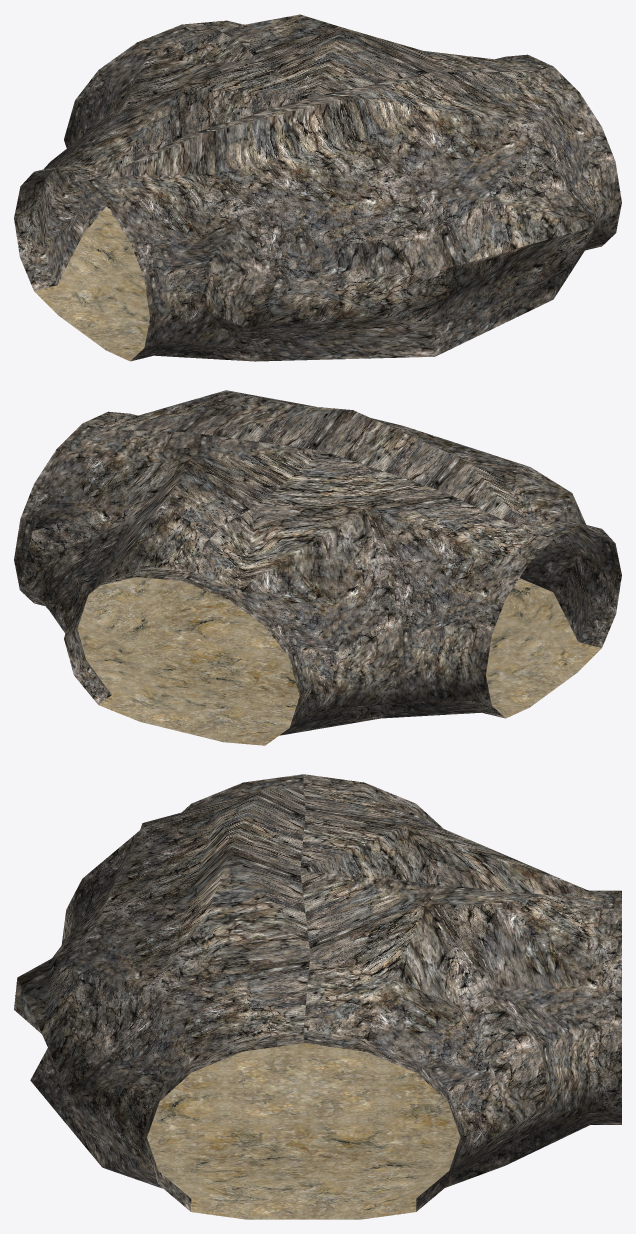
File: pir_m_are_cav_threeway100.fbx
The picture shows the model from 3 angles, top to bottom: view 1: azimuth 30°, elevation 25°; view 2: azimuth 150°, elevation 25°; view 3: azimuth 270°, elevation 25°; orthographic projection. The views are drawn at different scales.
Visible parts, largest first — view 1: threeway100_wall, threeway100_floor; view 2: threeway100_wall, threeway100_floor; view 3: threeway100_wall, threeway100_floor.
Part boxes in pixels (x1=…): threeway100_wall: x1=14, y1=14, x2=621, y2=361; threeway100_floor: x1=34, y1=206, x2=149, y2=361; threeway100_wall: x1=14, y1=390, x2=621, y2=735; threeway100_floor: x1=77, y1=577, x2=601, y2=745; threeway100_wall: x1=14, y1=774, x2=621, y2=1211; threeway100_floor: x1=147, y1=1043, x2=460, y2=1219.
Bounding box in the file's own units: 10000 × 4089 × 9552.
2 materials, 2 textured.
